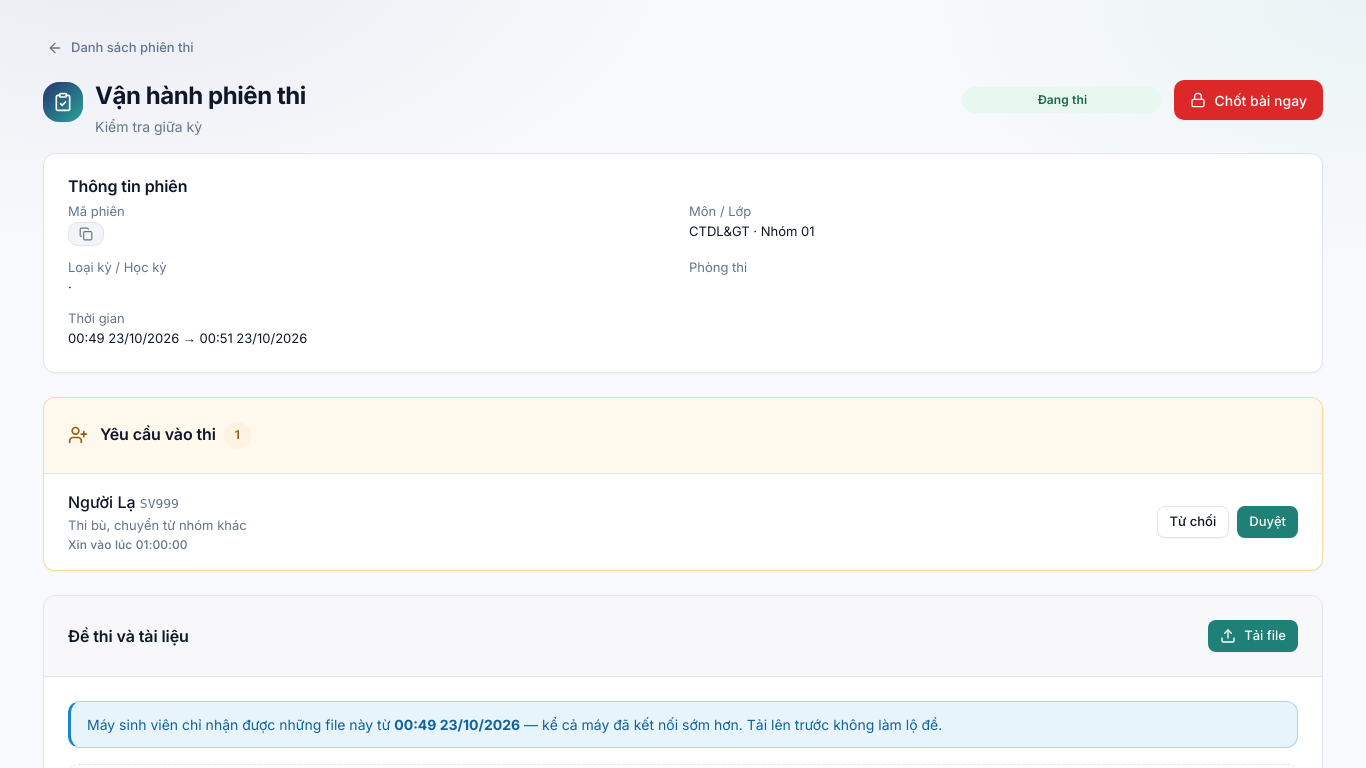
ExamSessionLobbyPage › access requests › removes the request from the panel once denied, without asking for a class
The image size is (1366, 768).
Expected: the text "Người Lạ" is shown, [68, 492, 136, 512]
Click the button "Từ chối". click: (1193, 522)
box: [1157, 506, 1229, 538]
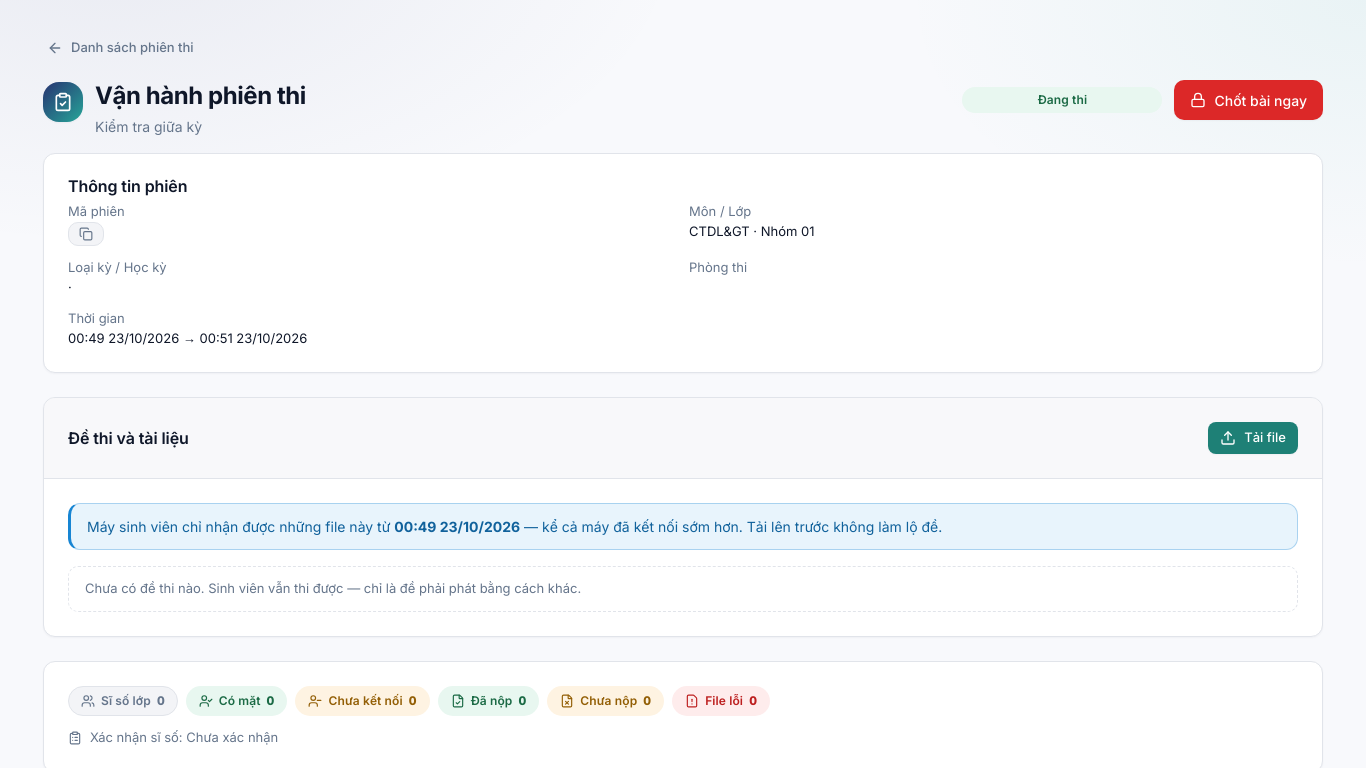
Expected: the text "Người Lạ" is gone
